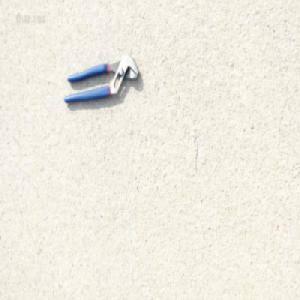Pliers: (63, 51, 140, 105)
